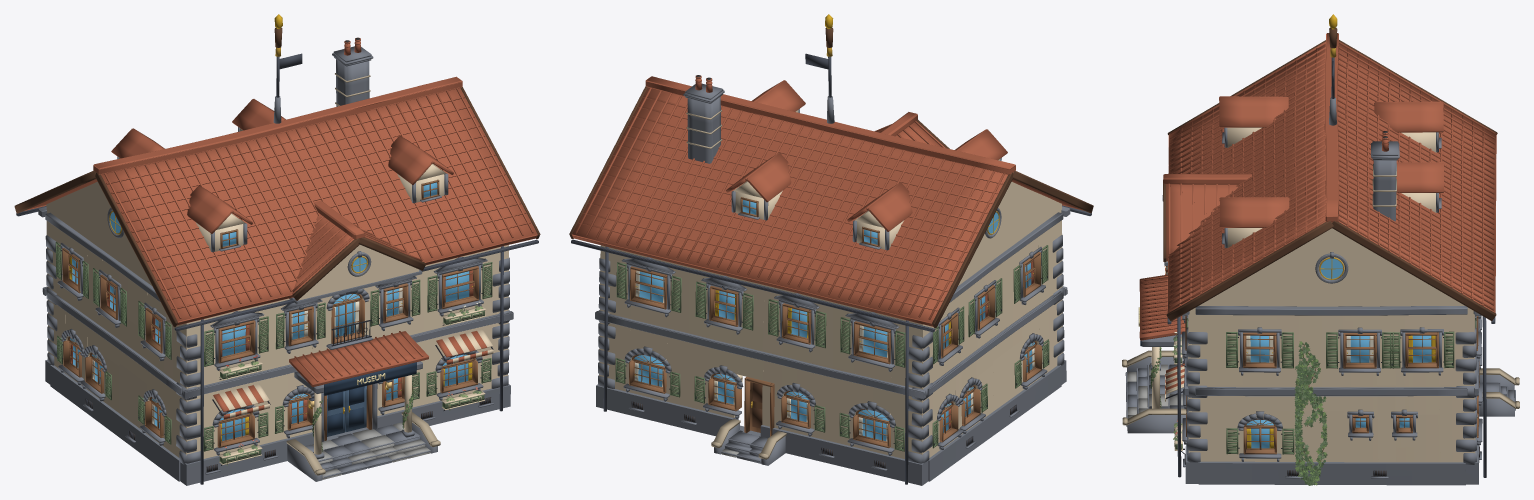
File: Museum_Ext_Architecture.fbx
3 views of the same model, side by side, from view 1: azimuth 30°, elevation 25°; view 2: azimuth 150°, elevation 25°; view 3: azimuth 270°, elevation 25° (orthographic). The views are drawn at different scales.
Visible parts, largest first — view 1: Ext_Roof_Main, Ext_Walls, Ext_Window_Frames, Ext_Entrance, Ext_Trim_Stone, Ext_Plinth, Ext_Roof_Dormers, Ext_Shutters, Ext_Window_Glass, Ext_Roof_CrossGable, Ext_Awnings, Ext_Gutters (+4 smaller); view 2: Ext_Roof_Main, Ext_Walls, Ext_Window_Frames, Ext_Trim_Stone, Ext_Plinth, Ext_Roof_Dormers, Ext_Shutters, Ext_Window_Glass, Ext_Entrance, Ext_Gutters, Ext_Chimney, Ext_Roof_CrossGable (+2 smaller); view 3: Ext_Roof_Main, Ext_Walls, Ext_Trim_Stone, Ext_Roof_Dormers, Ext_Entrance, Ext_Window_Frames, Ext_Plinth, Ext_Roof_CrossGable, Ext_Facade_Details, Ext_Shutters, Ext_Window_Glass, Ext_Chimney (+3 smaller).
Part boxes in pixels (x1,y1,x2,y2): Ext_Roof_Main: (14,76,540,327); Ext_Walls: (46,182,508,458); Ext_Window_Frames: (57,243,487,455); Ext_Entrance: (107,208,440,481); Ext_Trim_Stone: (38,207,513,464); Ext_Plinth: (45,359,510,485); Ext_Roof_Dormers: (111,99,453,252); Ext_Shutters: (55,241,492,451); Ext_Window_Glass: (69,255,473,441); Ext_Roof_CrossGable: (292,200,426,300); Ext_Awnings: (212,329,493,419); Ext_Gutters: (16,206,538,484); Ext_Roof_Main: (569,76,1093,328); Ext_Walls: (599,182,1063,458); Ext_Window_Frames: (621,247,1047,455); Ext_Trim_Stone: (595,206,1070,463); Ext_Plinth: (596,360,1066,485); Ext_Roof_Dormers: (726,80,1007,250); Ext_Shutters: (615,245,1049,451); Ext_Window_Glass: (634,260,1034,441); Ext_Entrance: (711,208,1001,465); Ext_Gutters: (571,205,1091,484); Ext_Chimney: (683,75,724,163); Ext_Roof_CrossGable: (874,112,949,148); Ext_Roof_Main: (1166,33,1497,321); Ext_Walls: (1164,228,1475,462); Ext_Trim_Stone: (1184,306,1479,464); Ext_Roof_Dormers: (1219,96,1443,248); Ext_Entrance: (1122,195,1519,433); Ext_Window_Frames: (1181,314,1482,461); Ext_Plinth: (1185,406,1479,485); Ext_Roof_CrossGable: (1163,174,1251,262); Ext_Facade_Details: (1150,330,1481,485); Ext_Shutters: (1186,318,1477,454); Ext_Window_Glass: (1246,335,1435,448); Ext_Chimney: (1371,131,1399,221).
Bounding box in the file's own units: 18.19 × 18.02 × 16.66.
